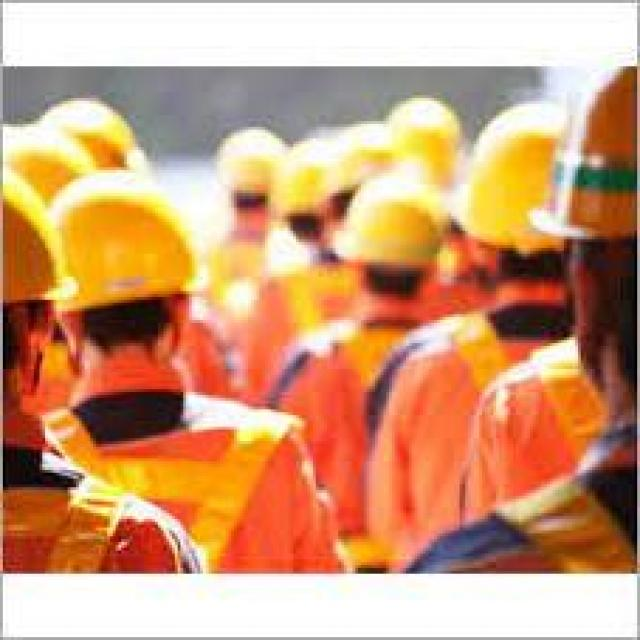Reflective-Jacket: (68, 410, 310, 580)
Safety-Helmet: (45, 170, 209, 320), (533, 43, 640, 251), (451, 101, 581, 259), (341, 167, 457, 274), (0, 161, 73, 319)
